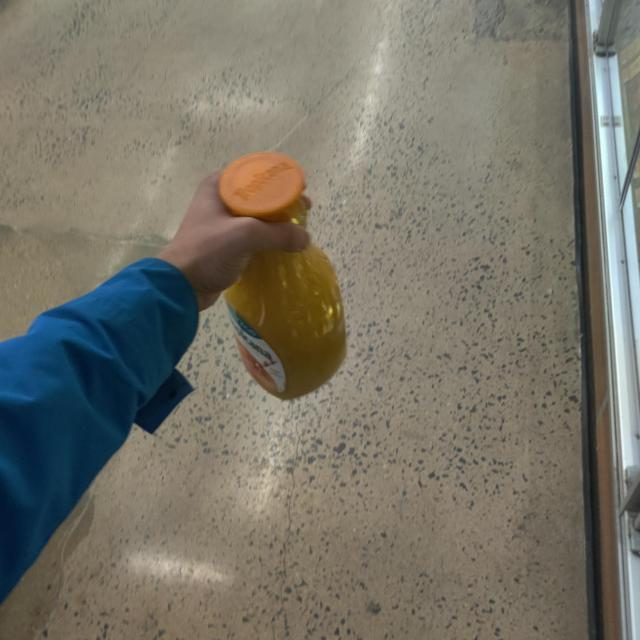Juice: (214, 154, 351, 402)
